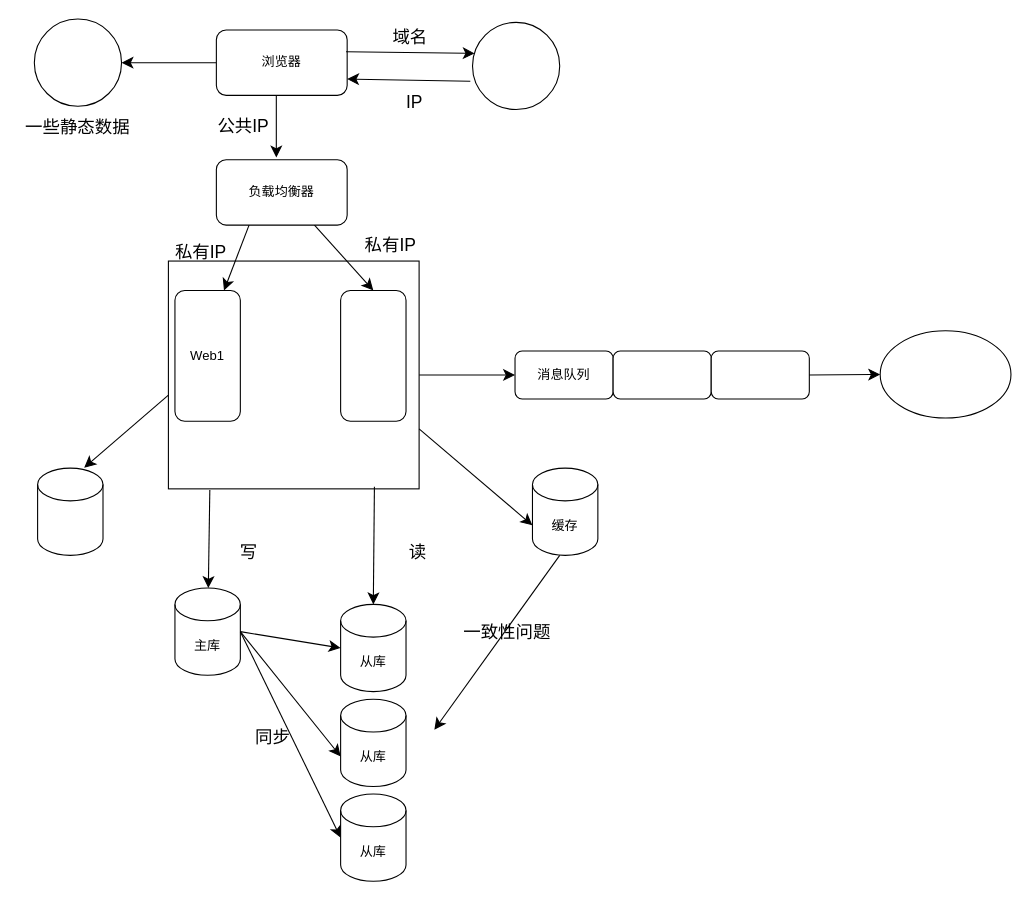
Image size: 1030x900. Some labels were removed from this diagram. The shapes that lost their labels are listed below. From the top down, each one's centre as x and y in pixels, then its label:
At pixel 77 62: "CDN".
At pixel 515 65: "DNS".
At pixel 373 355: "Web2".
At pixel 945 374: "处理服务".
At pixel 70 511: "共享Session".
